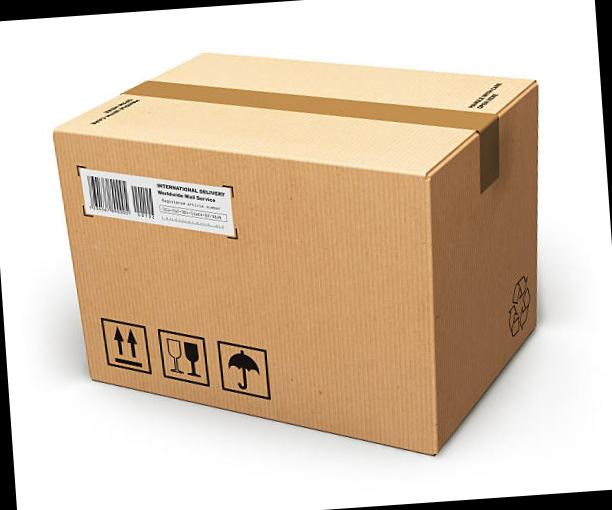cardboard: (21, 0, 600, 481)
